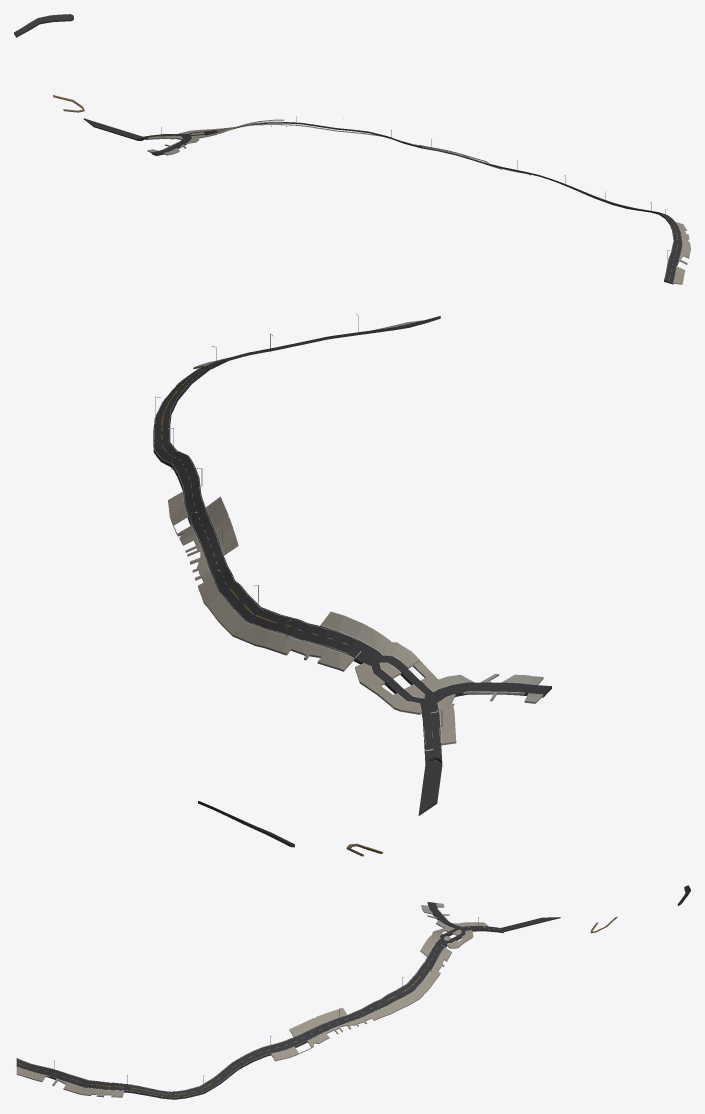
The picture shows the model from 3 angles, top to bottom: view 1: azimuth 30°, elevation 25°; view 2: azimuth 150°, elevation 25°; view 3: azimuth 270°, elevation 25°; orthographic projection. The views are drawn at different scales.
Bounding box in the file's own units: 284 × 53.08 × 501.
